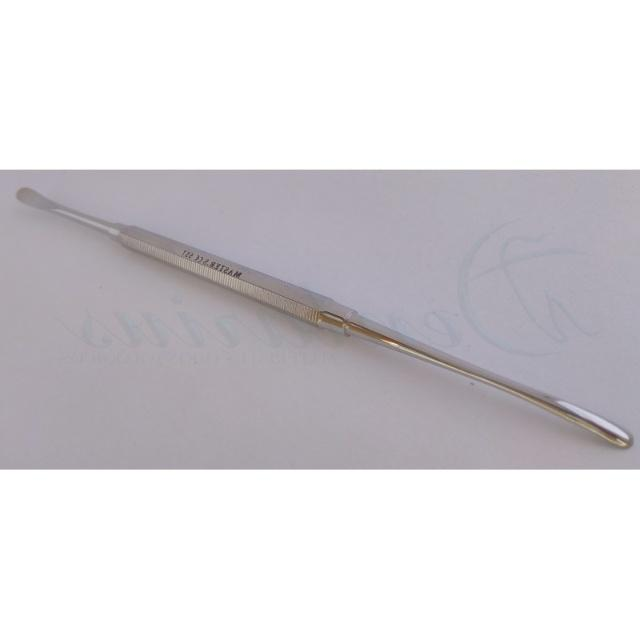elevador: (15, 188, 632, 449)
